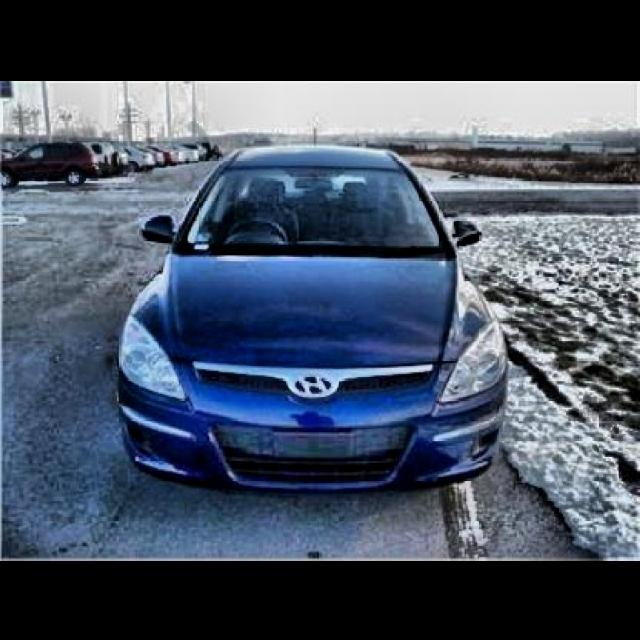blue: (104, 130, 517, 506)
